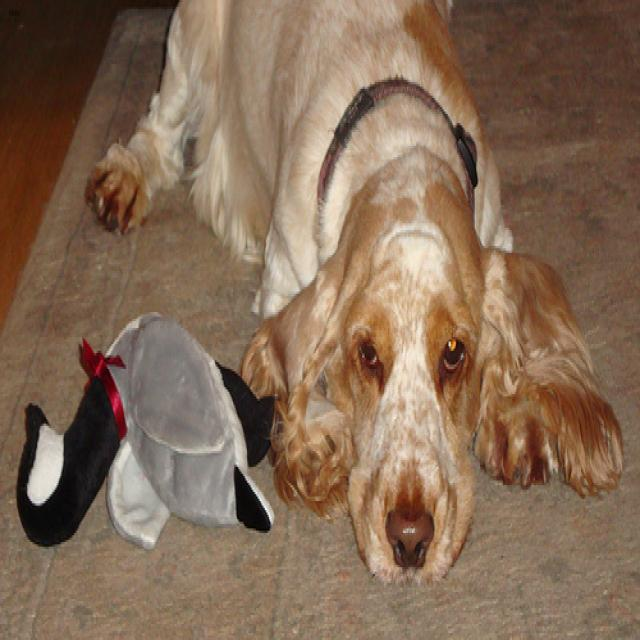dog-english_cocker_spaniel: (73, 2, 635, 599)
